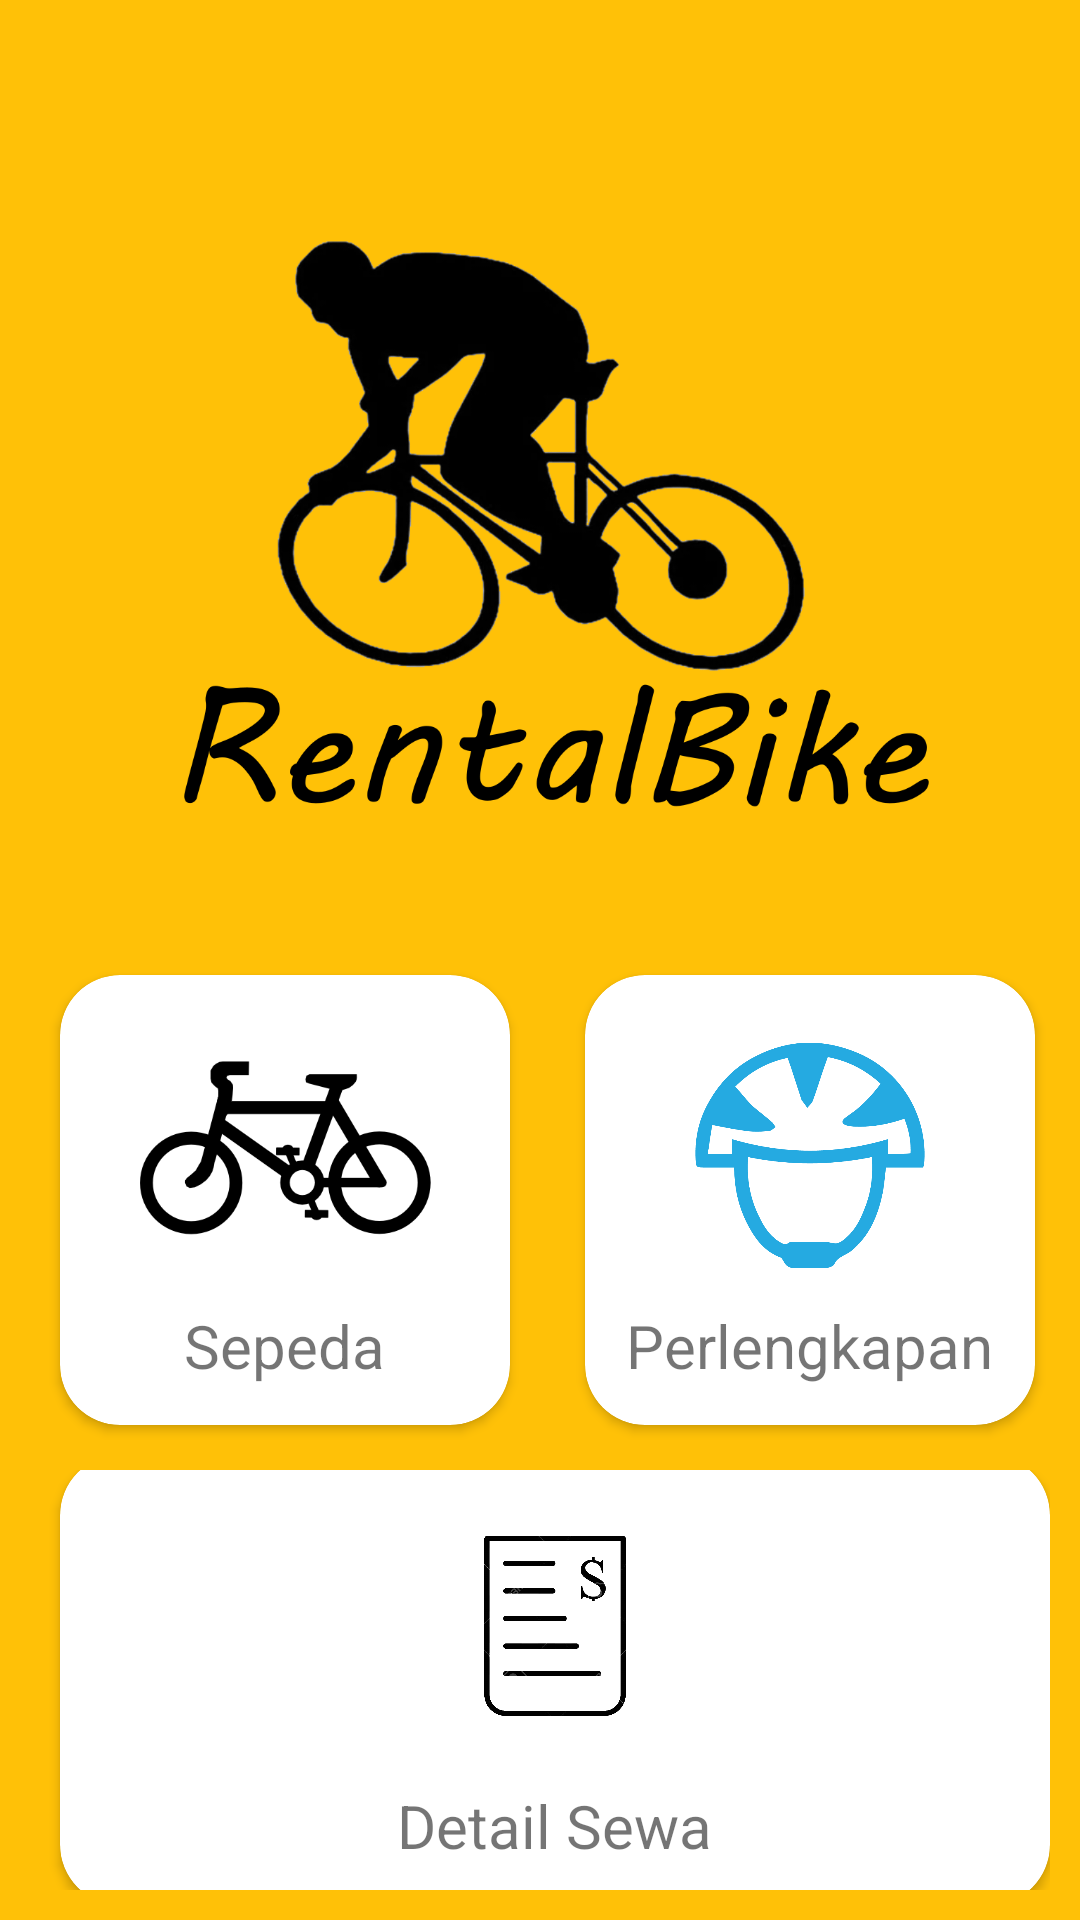

Screen size 1080w x 1920h. Icon name, then its center in pixels as [x,y]:
bill: [555,1626]
helem: [810,1155]
